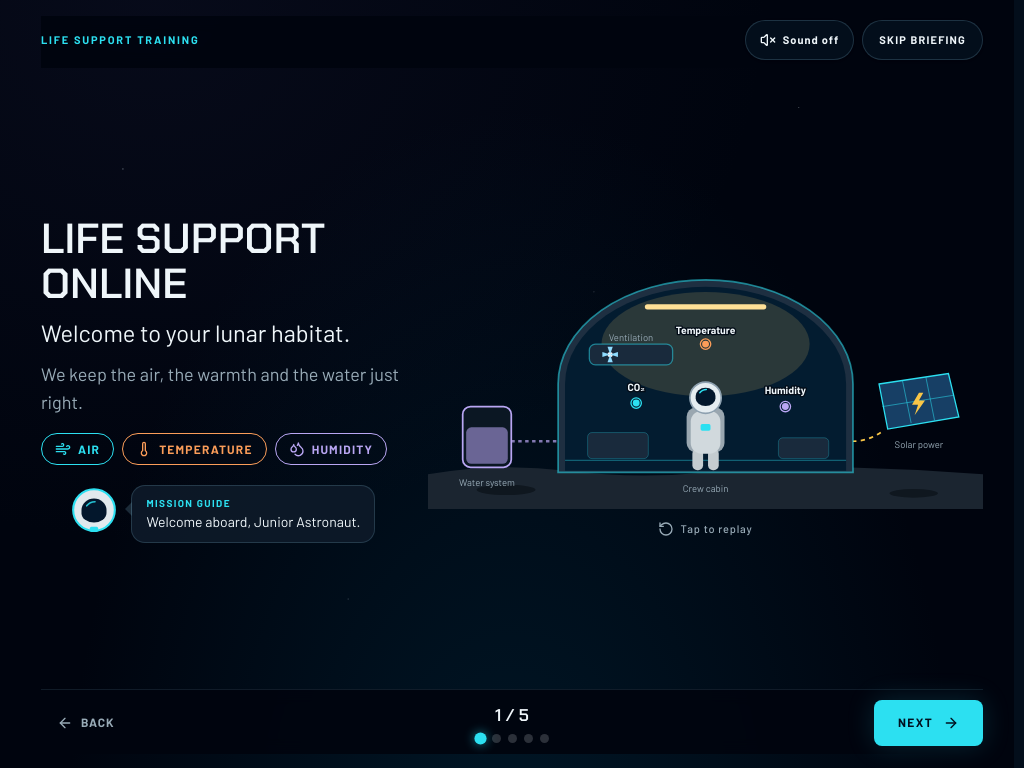
Ages 7-9 get a calmer, simpler briefing › scene 2: without a voice it still moves through the concepts slowly, one at a time
The image size is (1024, 768).
Step 1. Click the button "NEXT" → (928, 723), box [874,700,983,746]
Wait 6200 ms
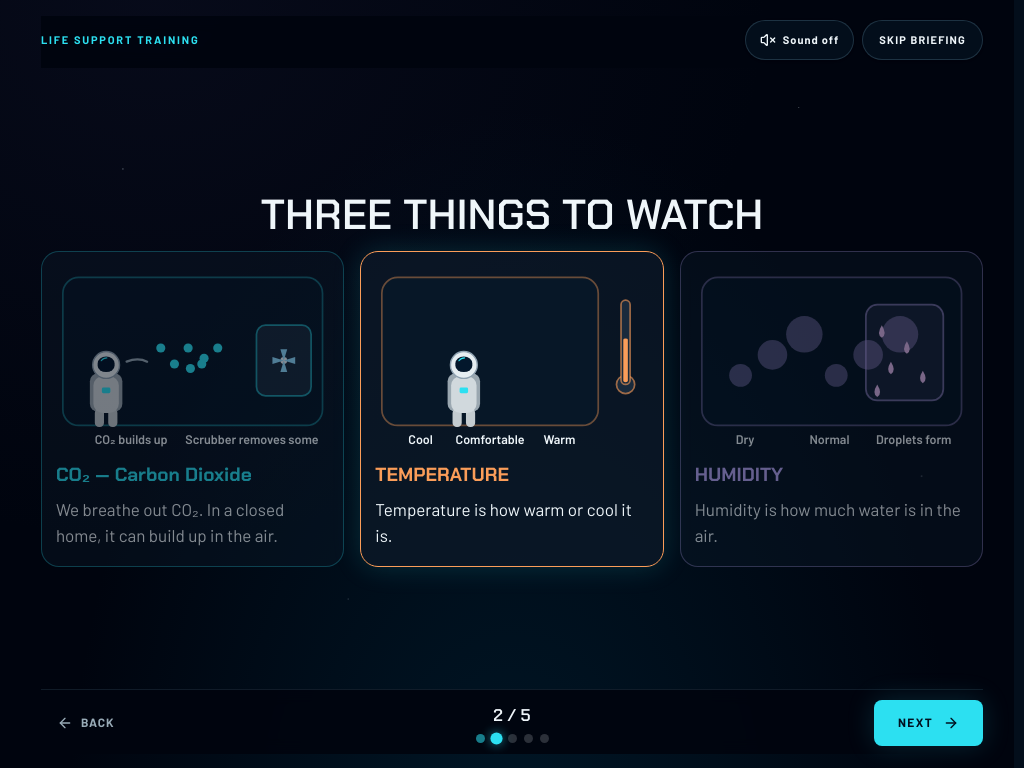
Expected: the number of buttons with class "concept-focus" is 1, [360,251,664,567]
